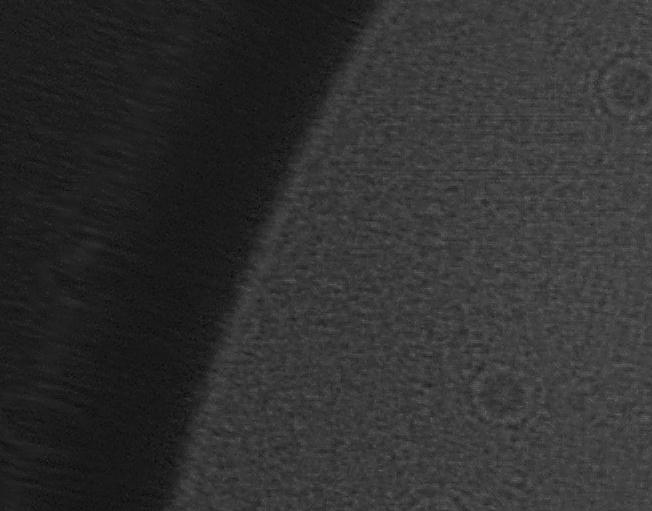bead: (456, 352, 550, 434), (578, 38, 652, 136), (379, 479, 485, 511)
